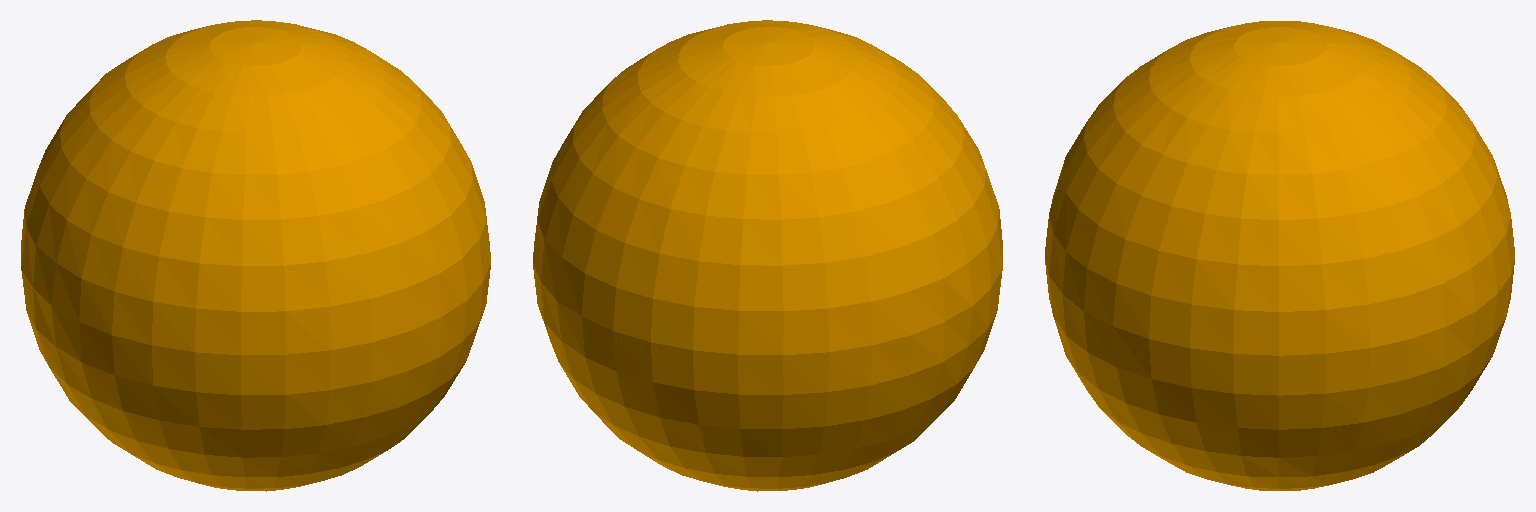
URDF robot description (light_livingroom):
<?xml version="1.0" ?>

<robot name="light_livingroom" xmlns:xi="http://www.w3.org/2001/XInclude"
	xmlns:gazebo="http://playerstage.sourceforge.net/gazebo/xmlschema/#gz"
	xmlns:model="http://playerstage.sourceforge.net/gazebo/xmlschema/#model"
	xmlns:sensor="http://playerstage.sourceforge.net/gazebo/xmlschema/#sensor"
	xmlns:body="http://playerstage.sourceforge.net/gazebo/xmlschema/#body"
	xmlns:geom="http://playerstage.sourceforge.net/gazebo/xmlschema/#geom"
	xmlns:joint="http://playerstage.sourceforge.net/gazebo/xmlschema/#joint"
	xmlns:interface="http://playerstage.sourceforge.net/gazebo/xmlschema/#interface"
	xmlns:rendering="http://playerstage.sourceforge.net/gazebo/xmlschema/#rendering"
	xmlns:renderable="http://playerstage.sourceforge.net/gazebo/xmlschema/#renderable"
	xmlns:controller="http://playerstage.sourceforge.net/gazebo/xmlschema/#controller"
	xmlns:physics="http://playerstage.sourceforge.net/gazebo/xmlschema/#physics">

  <link name="bulb_livingroom">
   <inertial>
	<mass value="1" />
			<com xyz="7.6 4.2 1.5" />
			<inertia ixx="1" ixy="0.0" ixz="0.0" iyy="1" iyz="0.0" izz="1" />
		</inertial>

		<visual>
			<origin xyz="7.6 4.2 1.5" rpy="0 0 0" />  <!--   definition of the visual postion of the object!! -->
			<geometry>
				<sphere radius="0.0001" />
			</geometry>
		</visual>
		<collision>
			<origin xyz="7.6 4.2 1.5" rpy="0 0 0" />
			<geometry>
				<sphere radius="0.0001" />
			</geometry>
		</collision>
	</link>

	<gazebo reference="bulb_livingroom">
		<model:renderable name="light_livingroom">
			<xyz>7.6 4.2 1.5</xyz>
			<static>true</static>
			<light>
				<type>point</type>
				<diffuseColor>0.1 0.1 0.1</diffuseColor>
				<specularColor>.01 .01 .01</specularColor>
				<attenuation>0.1 0.1 0.0001</attenuation>
				<range>4</range>
			</light>
		</model:renderable>
	</gazebo>
</robot>

--- Render facts (derived) ---
The picture shows the robot from 3 angles, left to right: view 1: azimuth 30°, elevation 25°; view 2: azimuth 150°, elevation 25°; view 3: azimuth 270°, elevation 25°; orthographic projection.
Model light_livingroom with 1 links and 0 joints (none), rooted at bulb_livingroom, posed all joints at 0.
Links seen in each view (by area): view 1: bulb_livingroom; view 2: bulb_livingroom; view 3: bulb_livingroom.
Link boxes in pixels (box(x1,y1,x2,y2)): bulb_livingroom: box(21, 20, 490, 491); bulb_livingroom: box(533, 20, 1002, 491); bulb_livingroom: box(1045, 21, 1514, 490).
Size in the robot's own frame: 0.0002 by 0.0002 by 0.0002 metres.
Geometry: primitives only (box / cylinder / sphere), no mesh files.